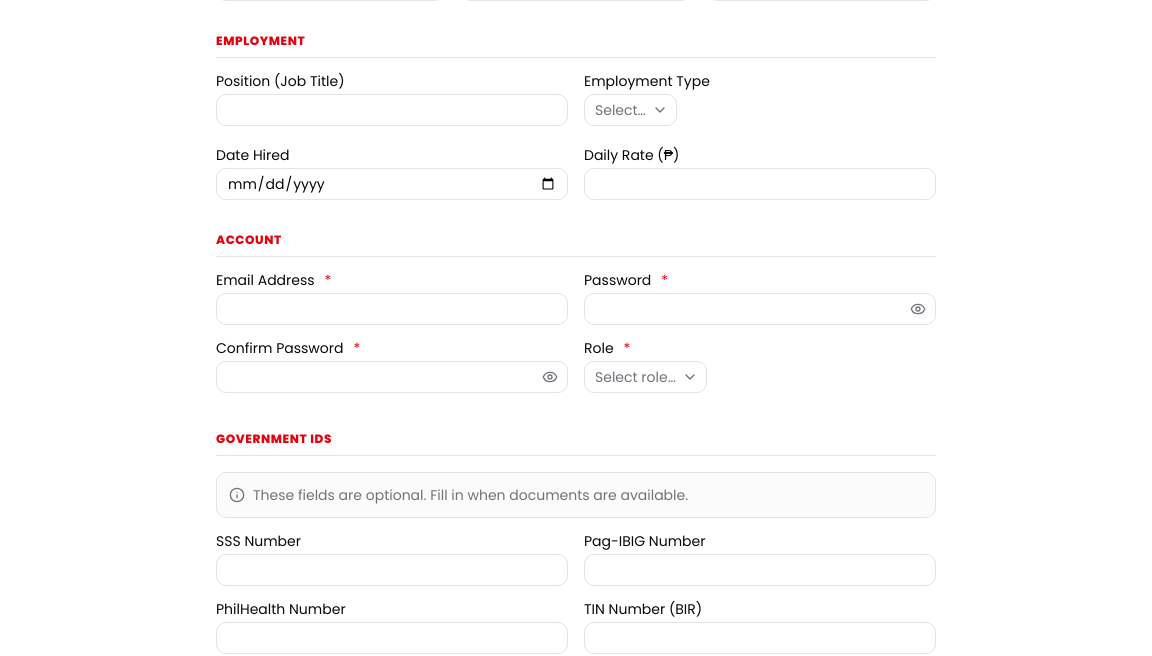
it: CreateUserPage › shows uppercase letter error for password without uppercase
The image size is (1152, 656).
(page scrolled)
Step 1. Type "password1" into the 1st password field → (760, 309), box [584,293,936,325]
(page scrolled)
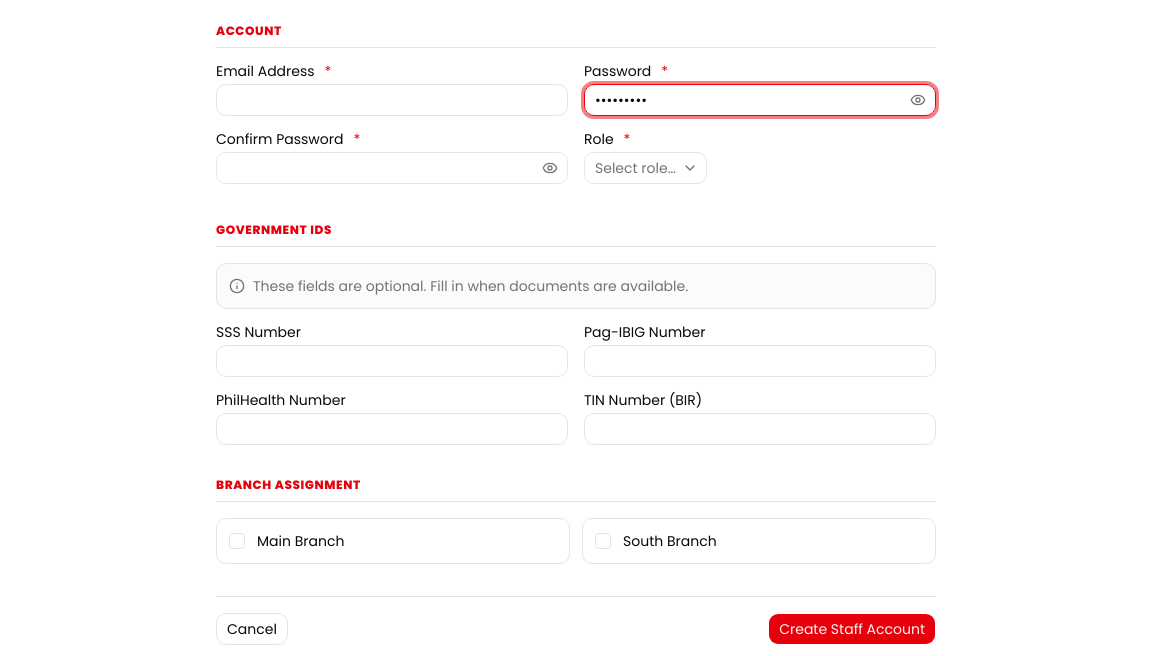
Step 2. Click the button "Create Staff Account" → click(852, 629), box [768,613,936,645]
(page scrolled)
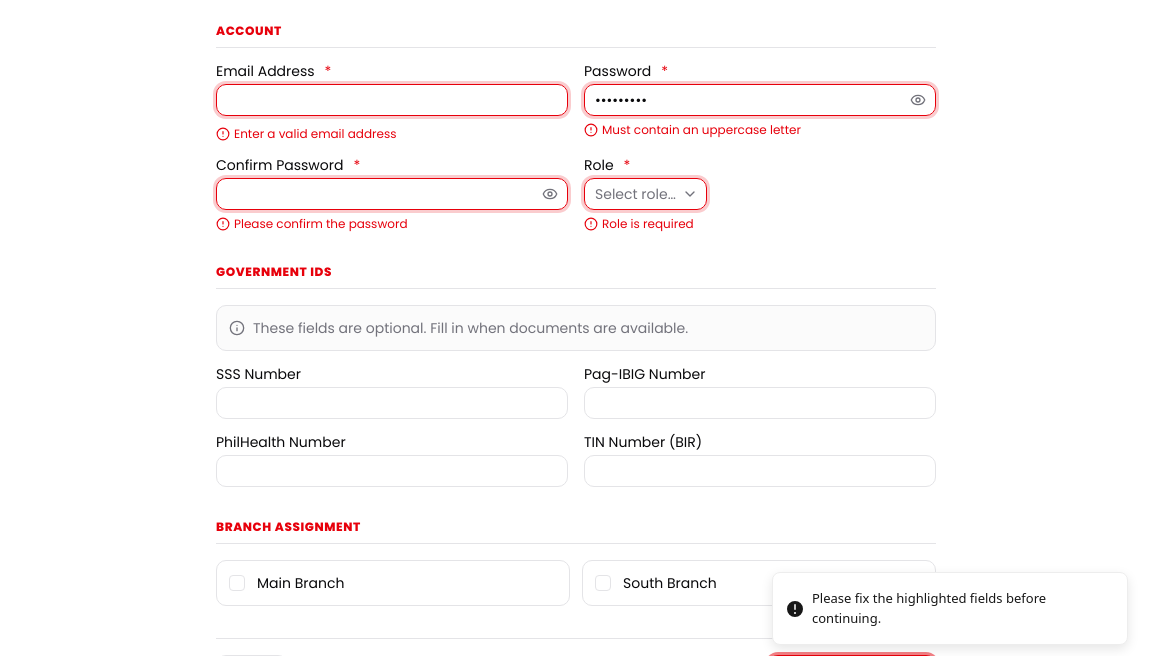
expect the text "Must contain an uppercase letter" is shown: met, box [584,121,801,138]
